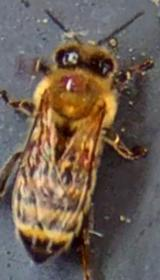varroa_mite: (61, 64, 93, 108), (74, 142, 96, 169)
